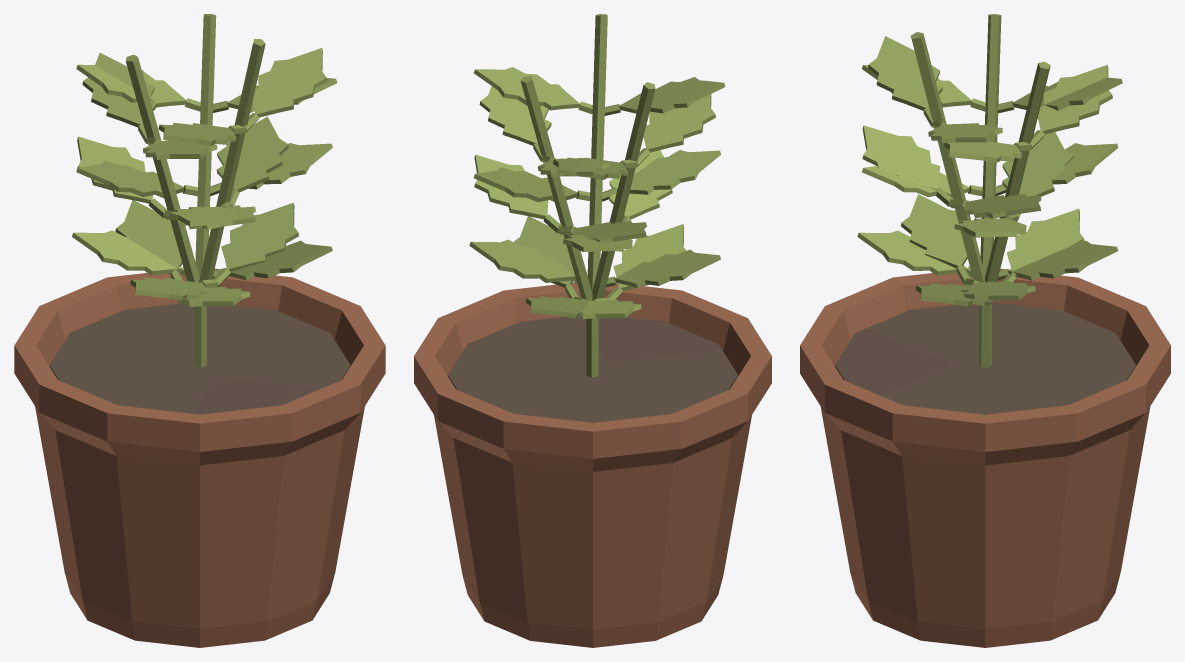
File: lemonbalm.glb
3 renders of one model, left to right at view 1: azimuth 30°, elevation 25°; view 2: azimuth 150°, elevation 25°; view 3: azimuth 270°, elevation 25°, orthographic. The views are drawn at different scales.
Visible parts, largest first — view 1: lemonbalm/review-terra-vessel, lemonbalm/review-rooted-soil, lemonbalm/stem-014, lemonbalm/leaf-026, lemonbalm/stem-001, lemonbalm/leaf-018, lemonbalm/leaf-022, lemonbalm/stem-027, lemonbalm/leaf-003, lemonbalm/leaf-031, lemonbalm/leaf-011, lemonbalm/leaf-035 (+10 smaller); view 2: lemonbalm/review-terra-vessel, lemonbalm/review-rooted-soil, lemonbalm/stem-014, lemonbalm/stem-027, lemonbalm/stem-001, lemonbalm/leaf-018, lemonbalm/leaf-013, lemonbalm/leaf-020, lemonbalm/leaf-016, lemonbalm/leaf-026, lemonbalm/leaf-037, lemonbalm/leaf-024 (+11 smaller); view 3: lemonbalm/review-terra-vessel, lemonbalm/review-rooted-soil, lemonbalm/stem-014, lemonbalm/leaf-016, lemonbalm/leaf-020, lemonbalm/stem-001, lemonbalm/leaf-024, lemonbalm/stem-027, lemonbalm/leaf-031, lemonbalm/leaf-039, lemonbalm/leaf-035, lemonbalm/leaf-003 (+11 smaller).
Part boxes in pixels (left/top/right/bottom): lemonbalm/review-terra-vessel: left=14, top=268, right=385, bottom=647; lemonbalm/review-rooted-soil: left=49, top=303, right=350, bottom=414; lemonbalm/stem-014: left=194, top=39, right=265, bottom=367; lemonbalm/leaf-026: left=252, top=48, right=327, bottom=117; lemonbalm/stem-001: left=126, top=54, right=206, bottom=367; lemonbalm/leaf-018: left=221, top=202, right=298, bottom=271; lemonbalm/leaf-022: left=216, top=116, right=288, bottom=192; lemonbalm/stem-027: left=195, top=14, right=216, bottom=330; lemonbalm/leaf-003: left=115, top=200, right=182, bottom=274; lemonbalm/leaf-031: left=72, top=230, right=181, bottom=275; lemonbalm/leaf-011: left=82, top=53, right=156, bottom=127; lemonbalm/leaf-035: left=76, top=160, right=184, bottom=198; lemonbalm/review-terra-vessel: left=414, top=282, right=771, bottom=647; lemonbalm/review-rooted-soil: left=448, top=316, right=737, bottom=422; lemonbalm/stem-014: left=586, top=14, right=607, bottom=370; lemonbalm/stem-027: left=520, top=76, right=598, bottom=377; lemonbalm/stem-001: left=586, top=82, right=655, bottom=377; lemonbalm/leaf-018: left=469, top=239, right=575, bottom=282; lemonbalm/leaf-013: left=643, top=94, right=715, bottom=152; lemonbalm/leaf-020: left=616, top=150, right=721, bottom=194; lemonbalm/leaf-016: left=614, top=249, right=720, bottom=287; lemonbalm/leaf-026: left=474, top=67, right=579, bottom=110; lemonbalm/leaf-037: left=479, top=86, right=551, bottom=145; lemonbalm/leaf-024: left=619, top=77, right=725, bottom=113; lemonbalm/review-terra-vessel: left=800, top=268, right=1170, bottom=647; lemonbalm/review-rooted-soil: left=835, top=302, right=1135, bottom=414; lemonbalm/stem-014: left=910, top=32, right=989, bottom=367; lemonbalm/leaf-016: left=901, top=194, right=967, bottom=268; lemonbalm/leaf-020: left=862, top=125, right=940, bottom=189; lemonbalm/stem-001: left=979, top=14, right=1001, bottom=366; lemonbalm/leaf-024: left=868, top=36, right=942, bottom=110; lemonbalm/stem-027: left=981, top=61, right=1050, bottom=366; lemonbalm/leaf-031: left=1007, top=208, right=1084, bottom=277; lemonbalm/leaf-039: left=1038, top=65, right=1112, bottom=134; lemonbalm/leaf-035: left=1002, top=132, right=1073, bottom=196; lemonbalm/leaf-003: left=1008, top=240, right=1118, bottom=280.
Bounding box in the file's own units: 0.19 × 0.3228 × 0.19.
Materials: 3 (3 with a texture image).
